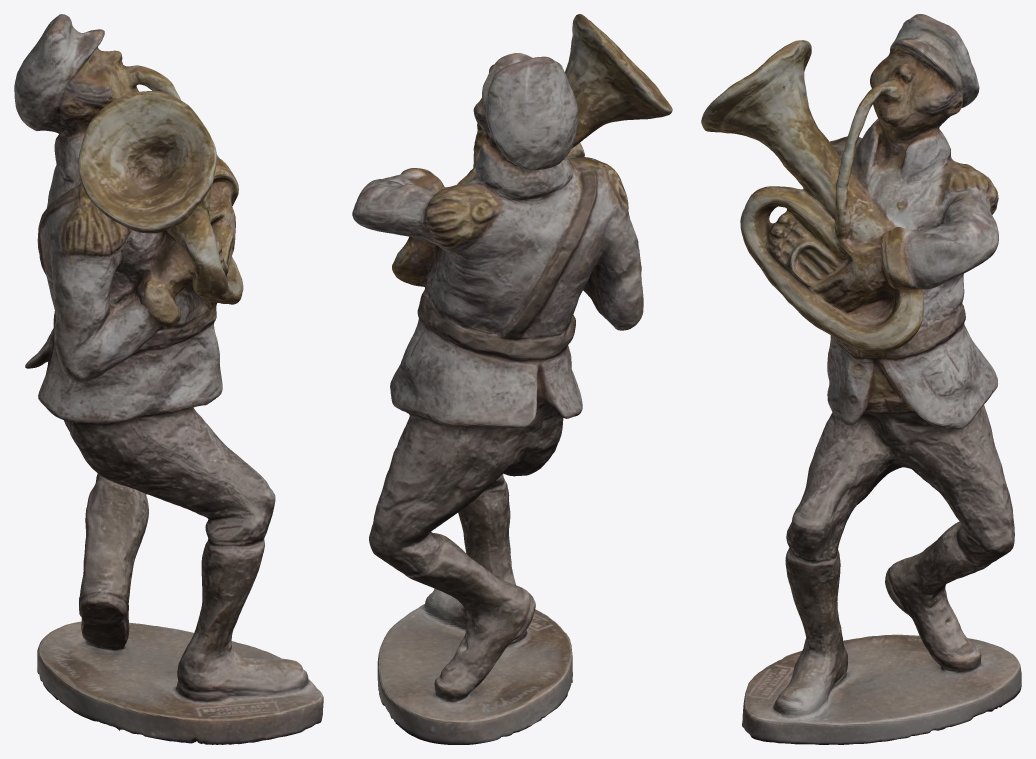
File: khanna-patinder-rawat-trumpet-walae.glb
The picture shows the model from 3 angles, left to right: view 1: azimuth 30°, elevation 25°; view 2: azimuth 150°, elevation 25°; view 3: azimuth 270°, elevation 25°; orthographic projection. The views are drawn at different scales.
Visible parts, largest first — view 1: 27_Krishan_Khanna_04_LOD2; view 2: 27_Krishan_Khanna_04_LOD2; view 3: 27_Krishan_Khanna_04_LOD2.
Part boxes in pixels (box(x1,y1,x2,y2)): 27_Krishan_Khanna_04_LOD2: box(14, 14, 323, 744); 27_Krishan_Khanna_04_LOD2: box(352, 14, 672, 744); 27_Krishan_Khanna_04_LOD2: box(701, 14, 1021, 744).
Size of the model in its own units: 17 by 45.58 by 20.61.
1 material, 1 textured.
